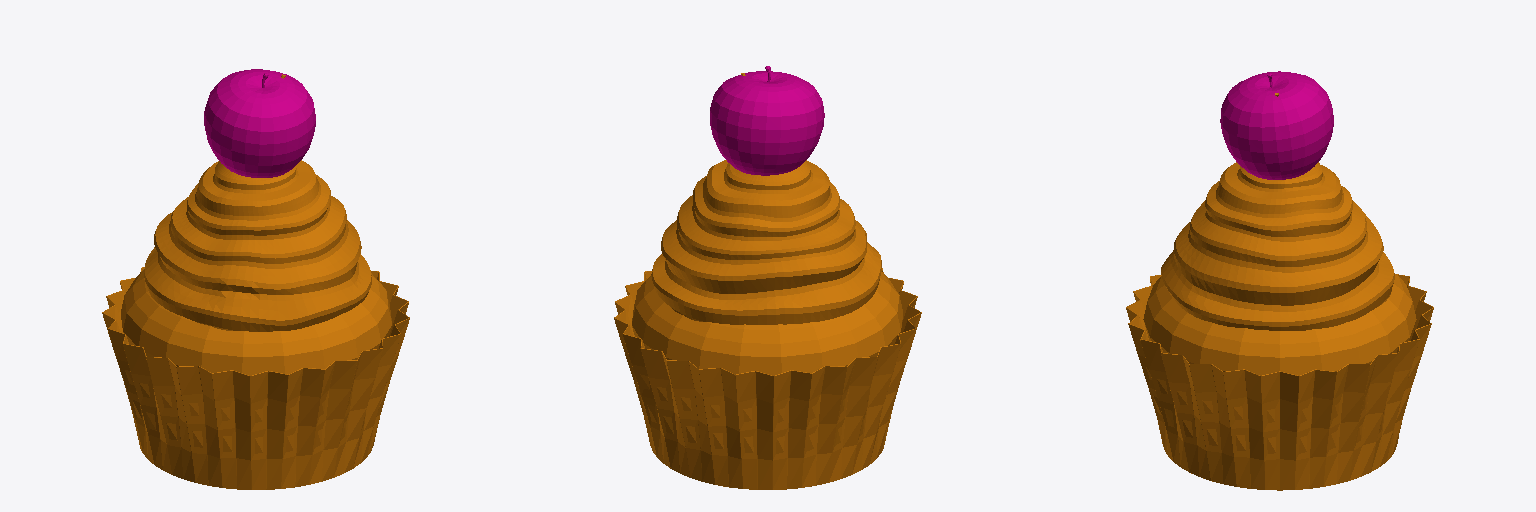
The model's file is appleCake.obj.
The picture shows the model from 3 angles: view 1: azimuth 30°, elevation 25°; view 2: azimuth 150°, elevation 25°; view 3: azimuth 270°, elevation 25°; orthographic projection.
Parts seen in each view (by area): view 1: Chocolate_Lava_Cherry_Cupcake_OBJ-2_Cupcakeneedssameamt:wrap_low, Green_Apple_OBJ_polySurface4SG; view 2: Chocolate_Lava_Cherry_Cupcake_OBJ-2_Cupcakeneedssameamt:wrap_low, Green_Apple_OBJ_polySurface4SG; view 3: Chocolate_Lava_Cherry_Cupcake_OBJ-2_Cupcakeneedssameamt:wrap_low, Green_Apple_OBJ_polySurface4SG.
Boxes of the visible parts, <box> form: Chocolate_Lava_Cherry_Cupcake_OBJ-2_Cupcakeneedssameamt:wrap_low: <box>102,74,409,489</box>; Green_Apple_OBJ_polySurface4SG: <box>204,69,315,177</box>; Chocolate_Lava_Cherry_Cupcake_OBJ-2_Cupcakeneedssameamt:wrap_low: <box>614,73,921,489</box>; Green_Apple_OBJ_polySurface4SG: <box>710,66,824,175</box>; Chocolate_Lava_Cherry_Cupcake_OBJ-2_Cupcakeneedssameamt:wrap_low: <box>1126,93,1433,490</box>; Green_Apple_OBJ_polySurface4SG: <box>1220,71,1333,179</box>.
Size of the model in its own units: 89.23 by 118 by 89.4.